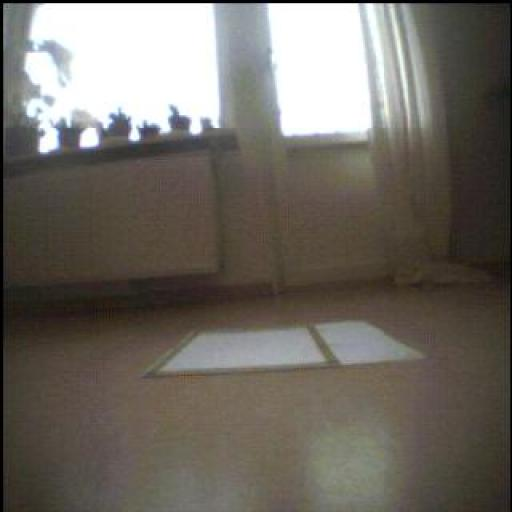Pad: (144, 320, 427, 375)
